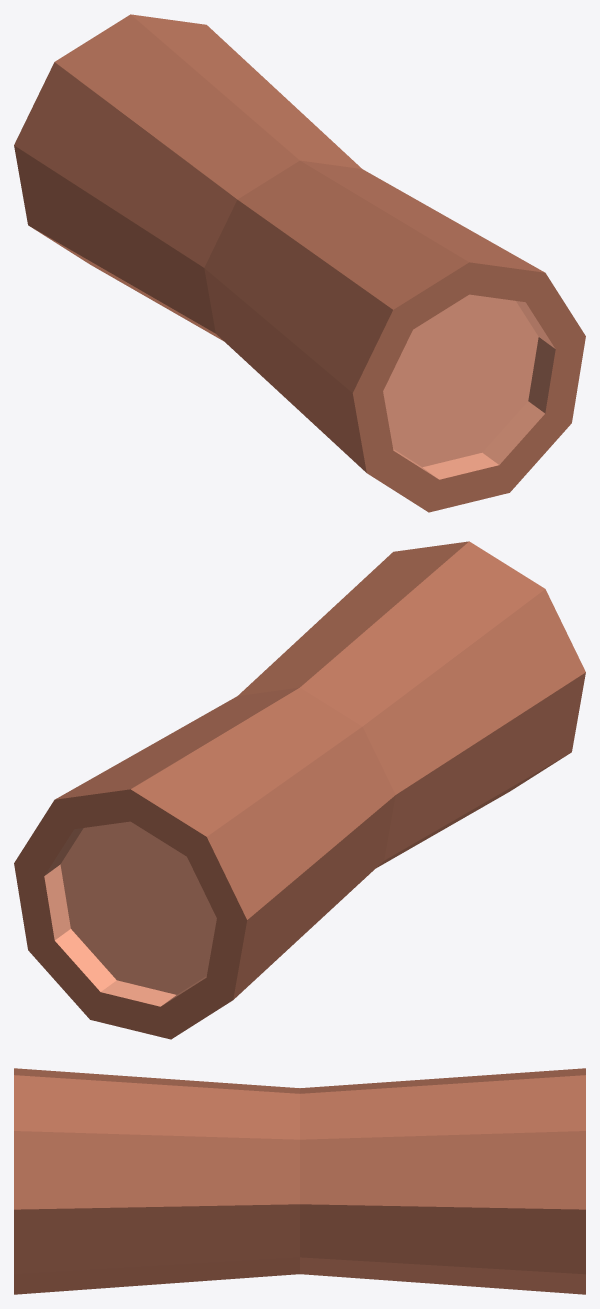
File: Log.fbx
3 renders of one model, top to bottom at view 1: azimuth 30°, elevation 25°; view 2: azimuth 150°, elevation 25°; view 3: azimuth 270°, elevation 25°, orthographic. The views are drawn at different scales.
Visible parts, largest first — view 1: Log; view 2: Log; view 3: Log.
Part boxes in pixels (x1,y1,x2,y2): Log: (14, 14, 585, 512); Log: (14, 541, 585, 1039); Log: (14, 1068, 585, 1294).
Size of the model in its own units: 148 by 146 by 373.
